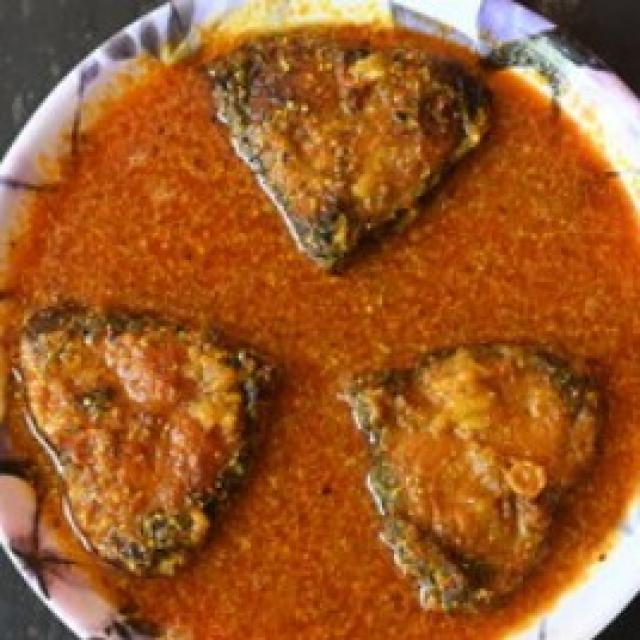FISH CURRY: (0, 0, 635, 638)
